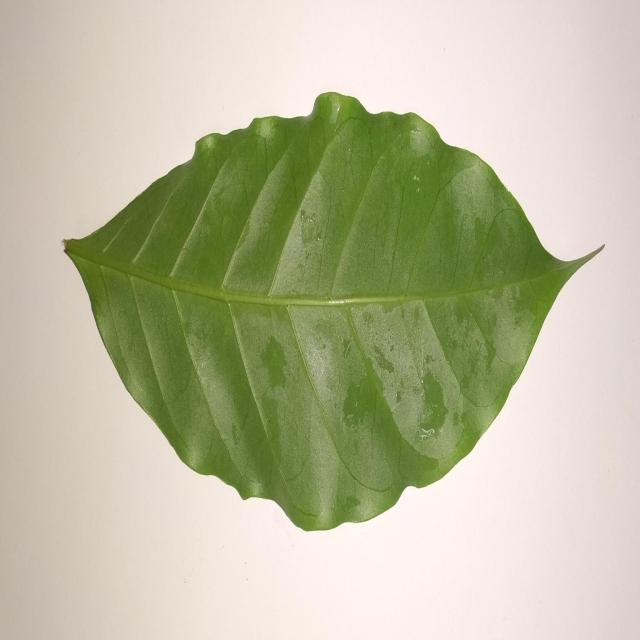Sanas: (62, 93, 604, 536)
